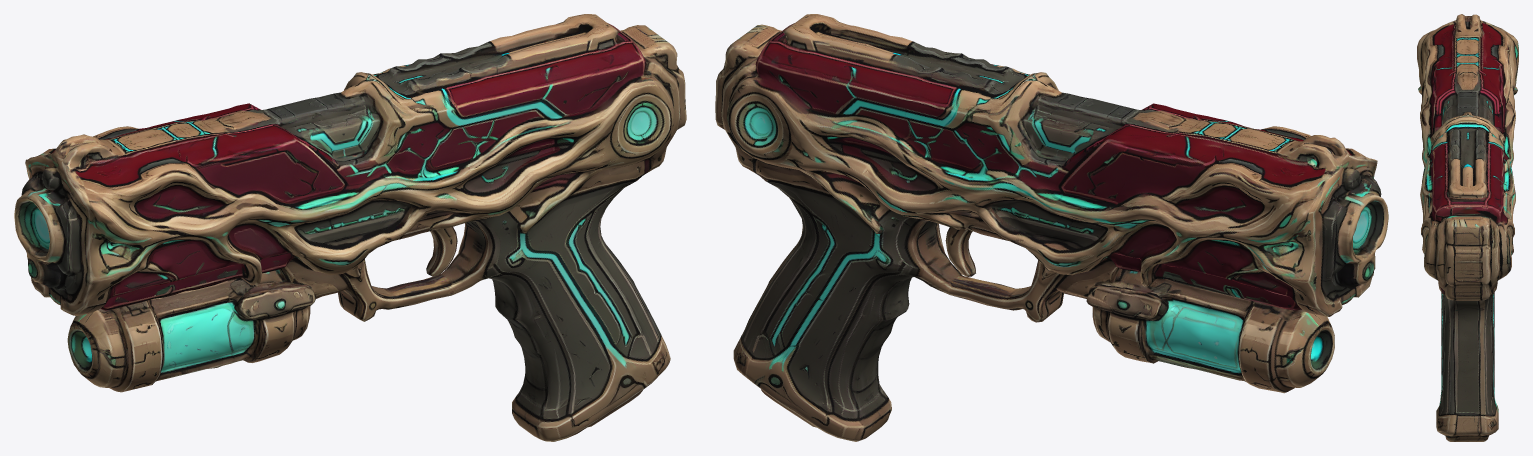
File: bio_liquid_pistol_1.fbx
The picture shows the model from 3 angles, left to right: view 1: azimuth 30°, elevation 25°; view 2: azimuth 150°, elevation 25°; view 3: azimuth 270°, elevation 25°; orthographic projection. The views are drawn at different scales.
Visible parts, largest first — view 1: mesh_node; view 2: mesh_node; view 3: mesh_node.
Boxes of the visible parts, x1=… form: mesh_node: x1=14, y1=14, x2=686, y2=441; mesh_node: x1=715, y1=14, x2=1388, y2=441; mesh_node: x1=1417, y1=14, x2=1518, y2=441.
Size of the model in its own units: 20.15 by 12 by 4.18.
1 material, 1 textured.
